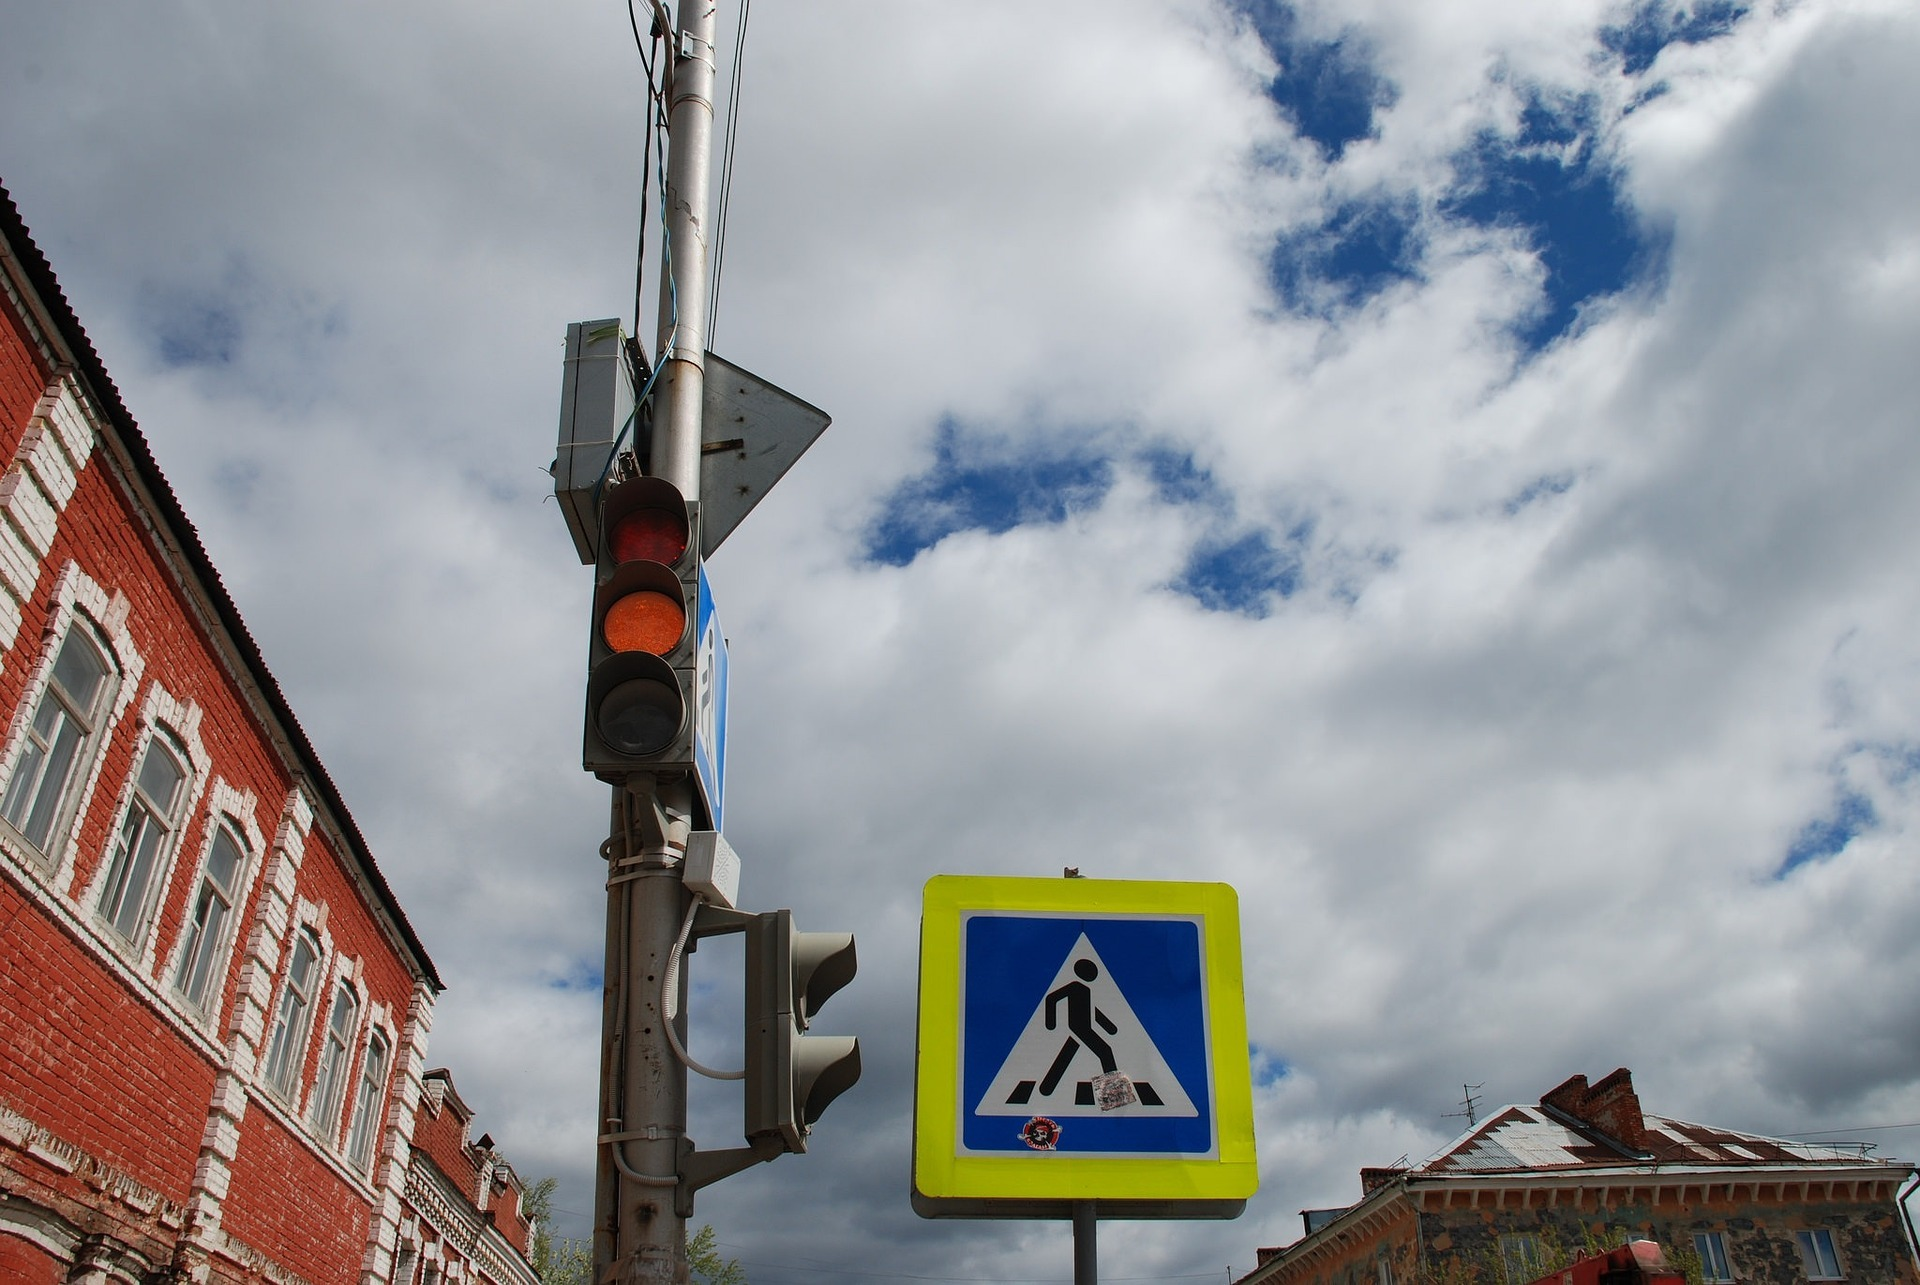tl: (582, 486, 703, 774)
